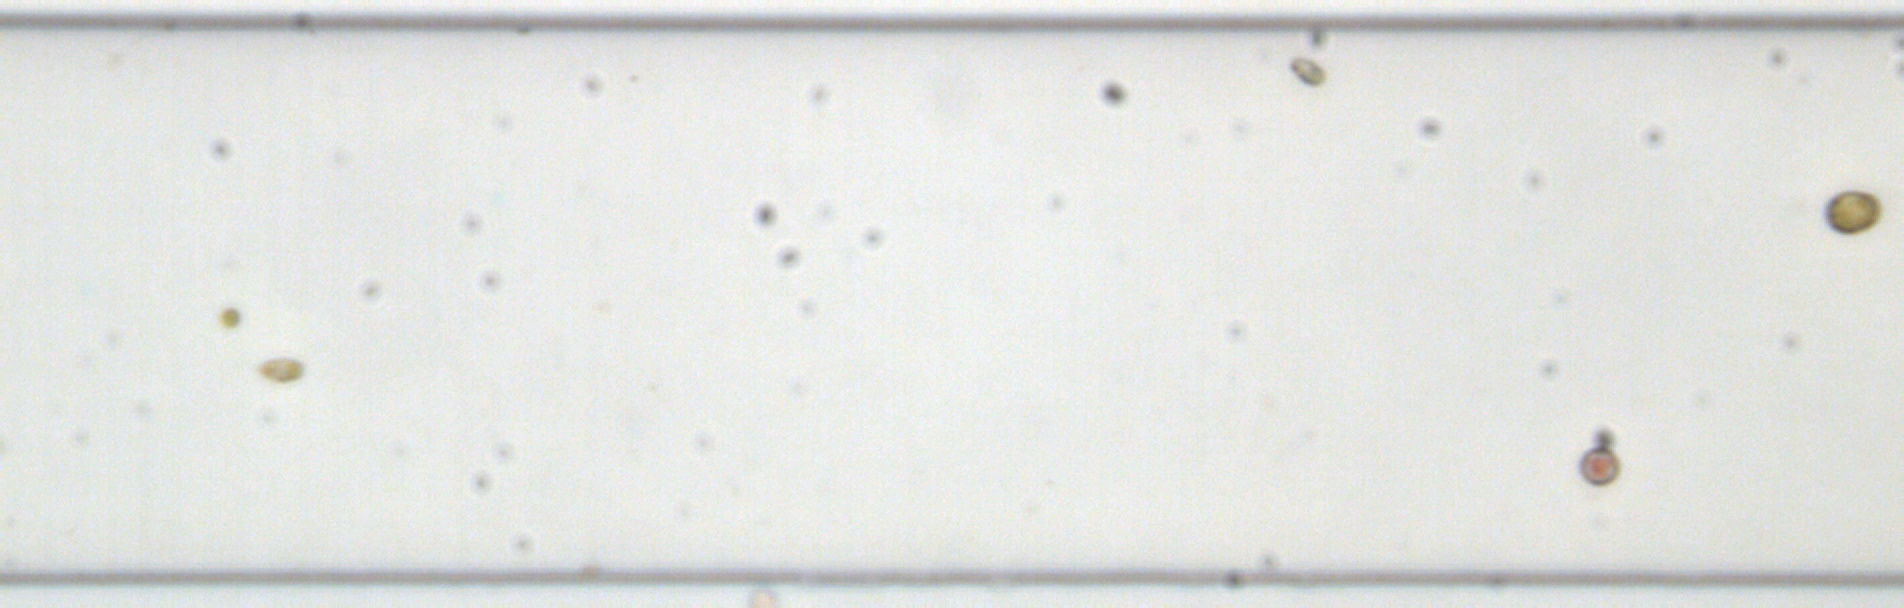Chlorella: (217, 306, 240, 329)
Dunaliella salina: (1286, 50, 1330, 93), (254, 352, 308, 385)
Effrenium: (1821, 189, 1882, 238)
Porphyridium: (1576, 444, 1620, 487)
